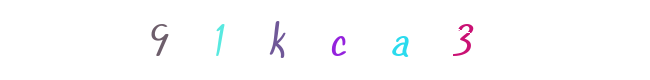1: (265, 0, 345, 80)
3: (425, 0, 505, 80)
9: (183, 0, 263, 80)
A: (298, 0, 378, 80)
C: (292, 0, 372, 80)
K: (285, 0, 365, 80)
